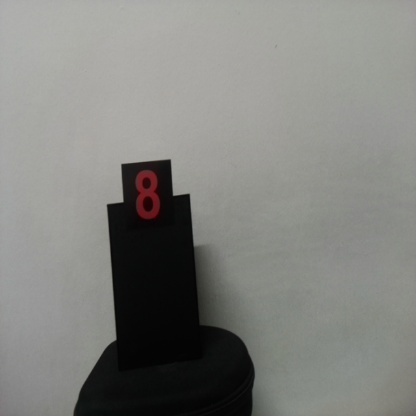id_8: (122, 164, 173, 237)
